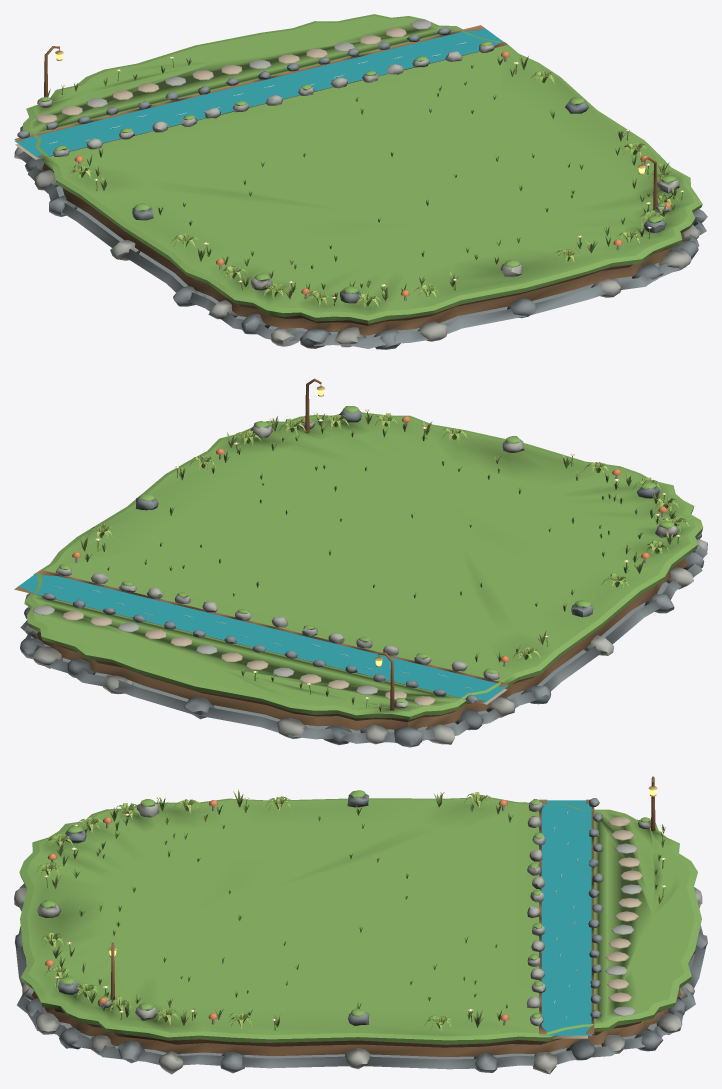
File: EDV2_Terrain.fbx
3 views of the same model, one above another, from view 1: azimuth 30°, elevation 25°; view 2: azimuth 150°, elevation 25°; view 3: azimuth 270°, elevation 25° (orthographic). The views are drawn at different scales.
Parts seen in each view (by area): view 1: Moss.002, Slate, CreekSurface, Soil, BorderRocks, RimGrowth, Path, Lantern; view 2: Moss.002, Slate, CreekSurface, Soil, BorderRocks, RimGrowth, Path, Lantern; view 3: Moss.002, Slate, CreekSurface, Soil, RimGrowth, BorderRocks, Path, Lantern.
Boxes of the visible parts, left/top/right/bottom form: Moss.002: left=14, top=14, right=702, bottom=323; Slate: left=14, top=126, right=707, bottom=349; CreekSurface: left=14, top=28, right=503, bottom=158; Soil: left=42, top=163, right=684, bottom=335; BorderRocks: left=17, top=27, right=679, bottom=303; RimGrowth: left=48, top=51, right=684, bottom=308; Path: left=35, top=19, right=431, bottom=123; Lantern: left=44, top=46, right=657, bottom=211; Moss.002: left=14, top=412, right=703, bottom=719; Slate: left=20, top=533, right=707, bottom=747; CreekSurface: left=18, top=573, right=507, bottom=703; Soil: left=37, top=558, right=687, bottom=730; BorderRocks: left=41, top=406, right=678, bottom=708; RimGrowth: left=72, top=409, right=689, bottom=711; Path: left=33, top=606, right=435, bottom=705; Lantern: left=305, top=378, right=394, bottom=710; Moss.002: left=19, top=797, right=701, bottom=1044; Slate: left=14, top=884, right=707, bottom=1074; CreekSurface: left=541, top=800, right=592, bottom=1035; Soil: left=31, top=989, right=680, bottom=1056; RimGrowth: left=36, top=789, right=666, bottom=1030; BorderRocks: left=37, top=790, right=650, bottom=1026; Path: left=605, top=817, right=642, bottom=1016; Lantern: left=108, top=776, right=657, bottom=1001.
Size of the model in its own units: 11.11 by 2 by 13.
